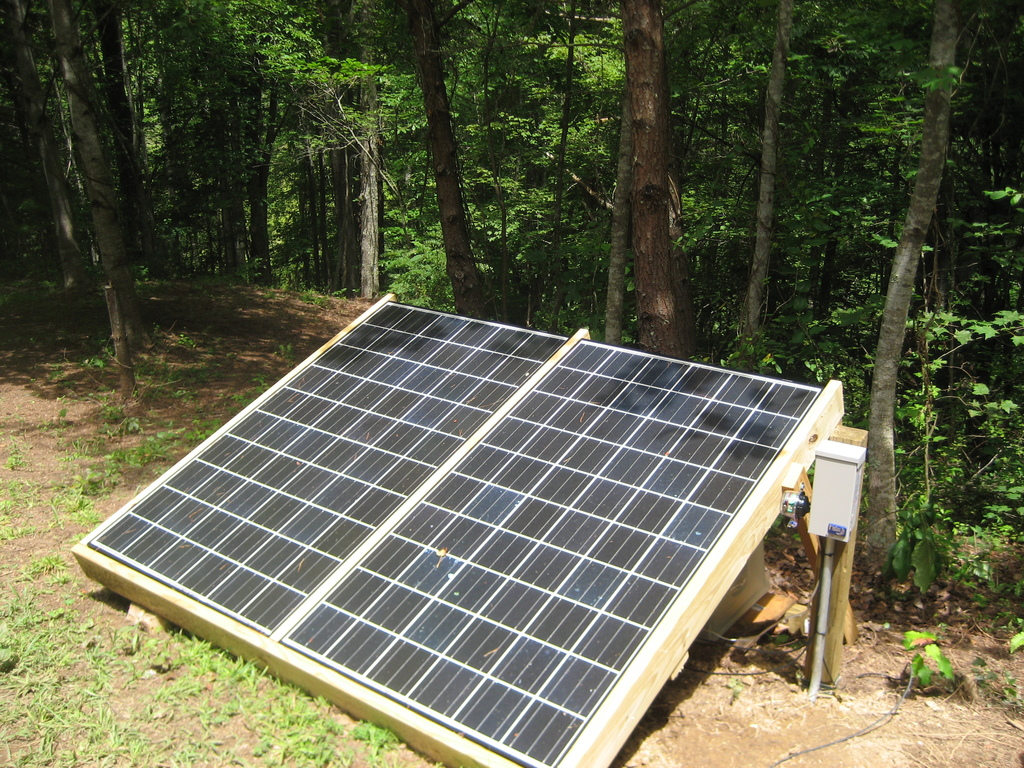Tree: (0, 0, 1023, 571)
